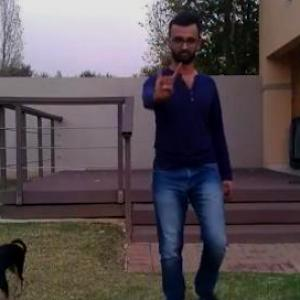takeoff-hand: (146, 49, 184, 102)
